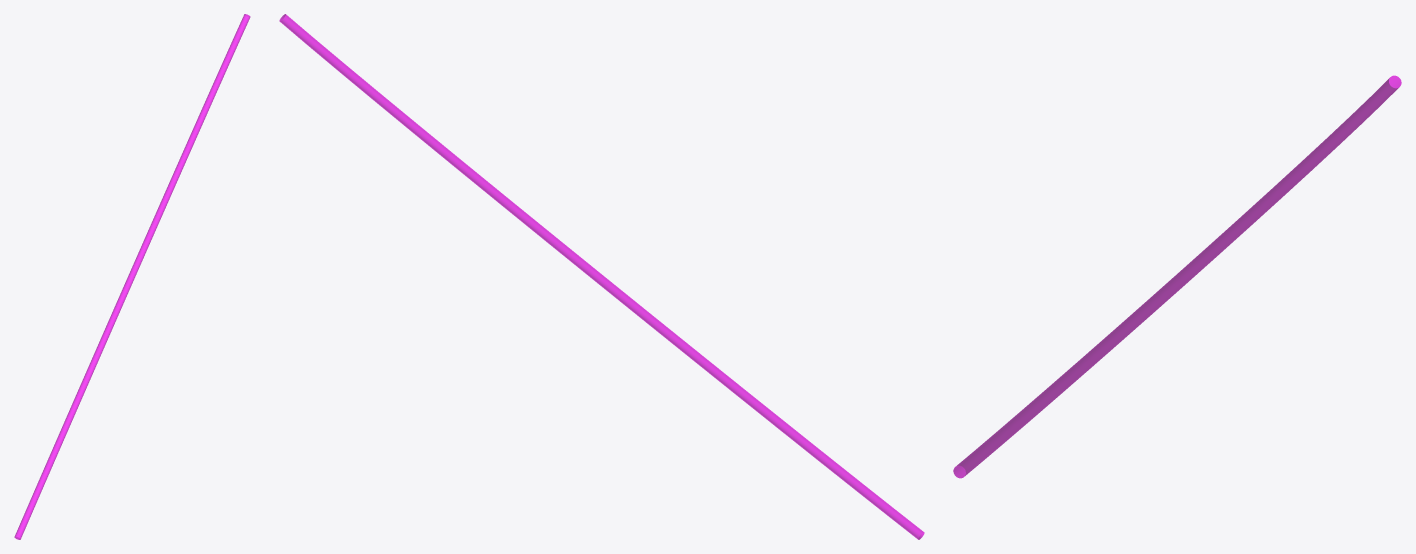
Rendered from Event_75125125_electron_1.fbx.
3 renders of one model, left to right at view 1: azimuth 30°, elevation 25°; view 2: azimuth 150°, elevation 25°; view 3: azimuth 270°, elevation 25°, orthographic. The views are drawn at different scales.
Visible parts, largest first — view 1: Model; view 2: Model; view 3: Model.
Part boxes in pixels (left/top/right/bottom): Model: left=14, top=14, right=250, bottom=539; Model: left=279, top=14, right=924, bottom=539; Model: left=953, top=75, right=1401, bottom=478.
Bounding box in the file's own units: 2.34 × 2.38 × 1.32.
